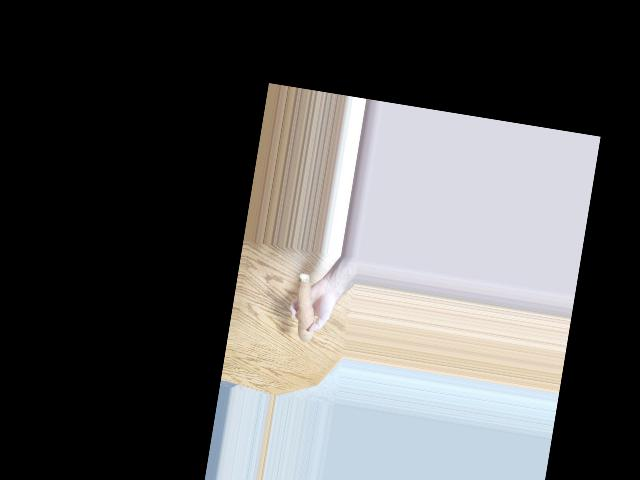sweet_potato: (287, 267, 320, 345)
